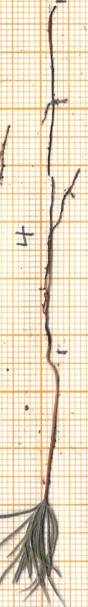flower: (0, 500, 72, 607)
root: (34, 4, 83, 352)
stem: (39, 352, 63, 496)
